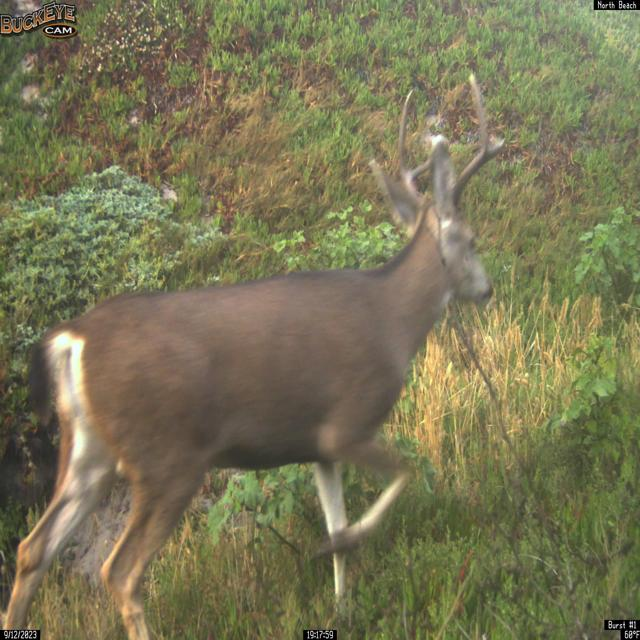deer: (2, 72, 507, 640)
